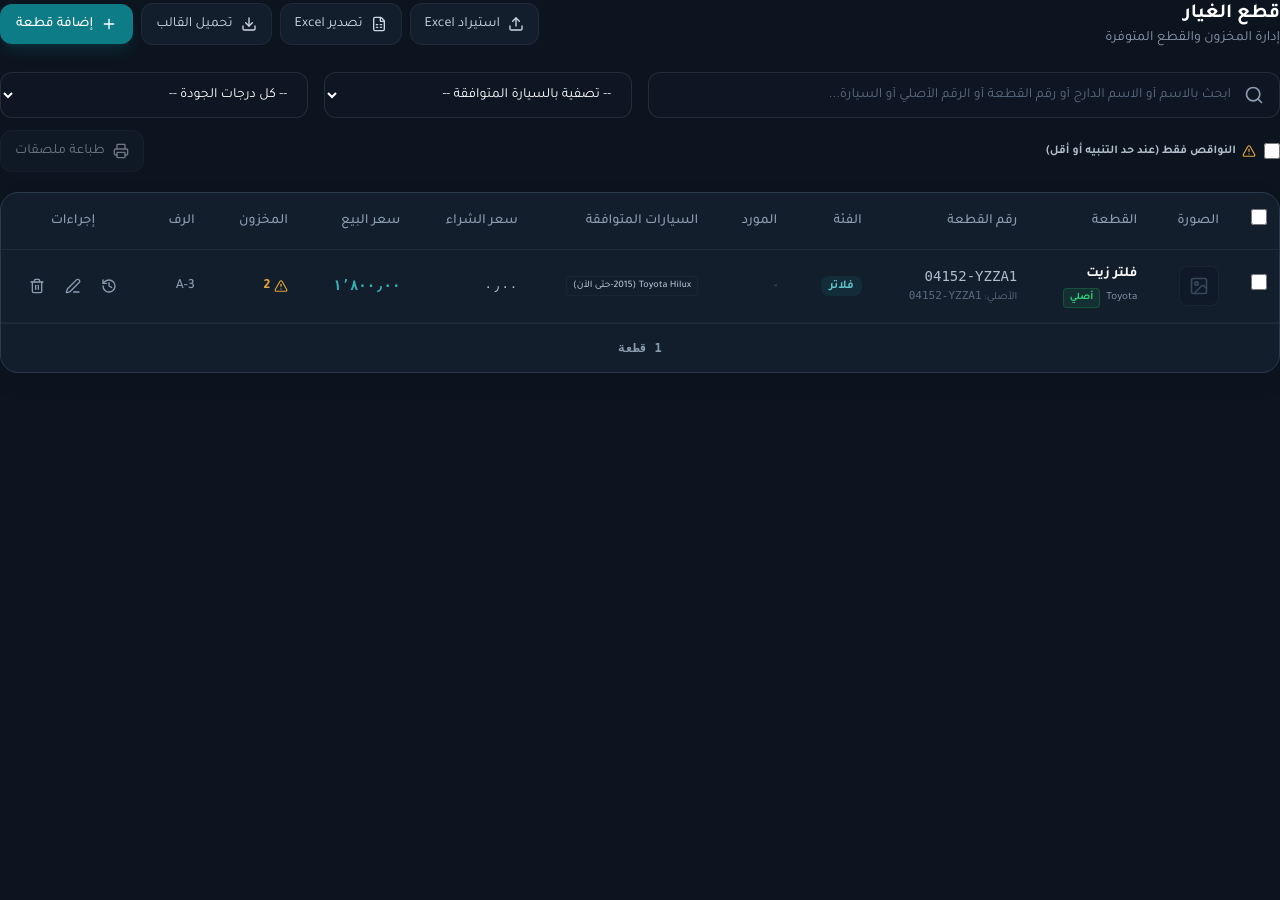
it: SpareParts page › التعديل يُعبّأ من التفاصيل ويحفظ دون الرصيد وسعر الشراء
Click the button named "تعديل فلتر زيت" at (73, 286), box [57,270,89,302]
(page scrolled)
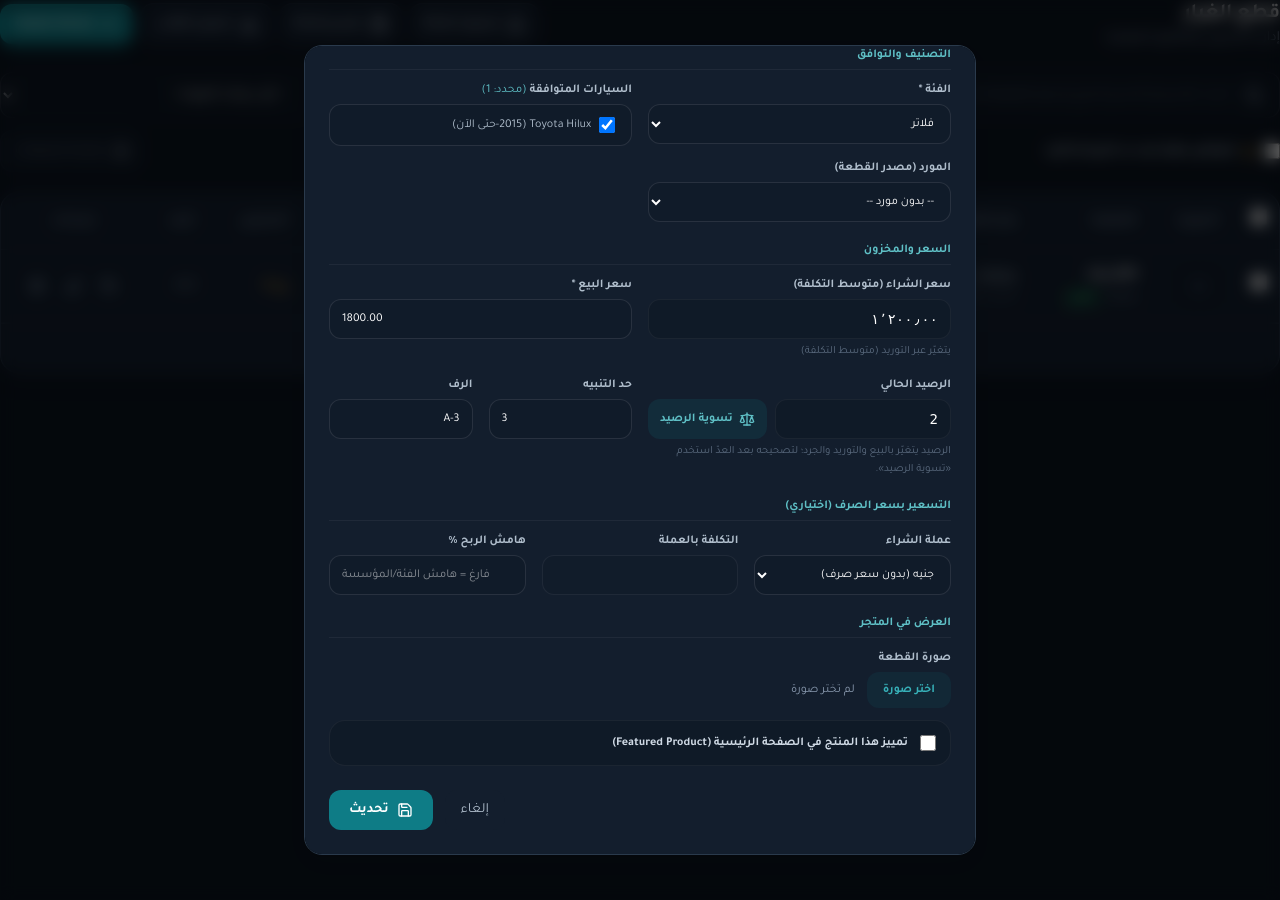
Check: the dropdown labelled "الفئة *" shows "فلاتر", box [648,104,951,144]
Check: the checkbox labelled "Toyota Hilux (2015-حتى الآن)" is checked, box [599,117,615,133]
Check: the text "يتغيّر عبر التوريد (متوسط التكلفة)" is shown, box [801,346,951,357]
Click the button "تحديث" at (381, 810), box [329,790,432,830]
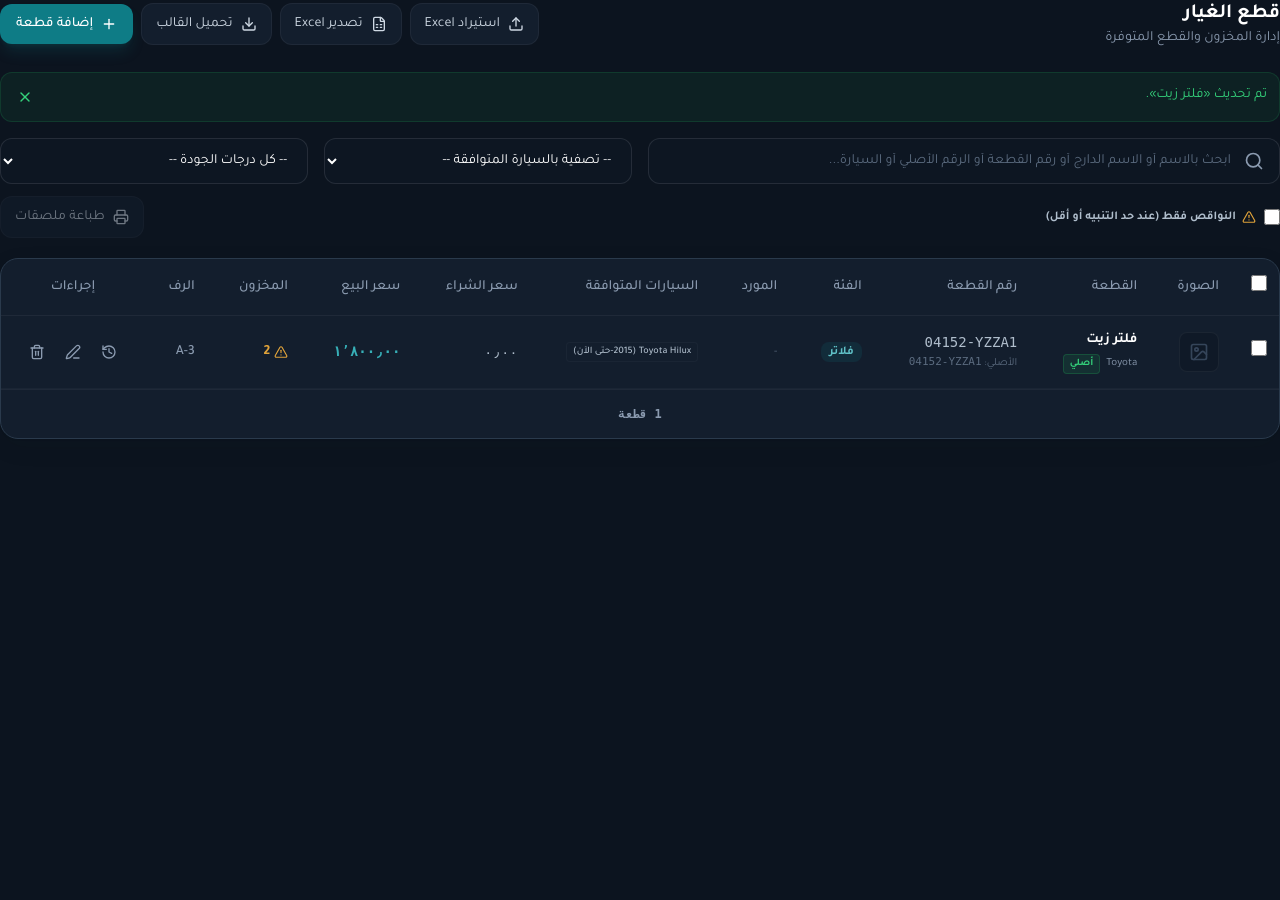
Check: the text "تم تحديث «فلتر زيت»." is shown, box [1146,85,1267,105]
